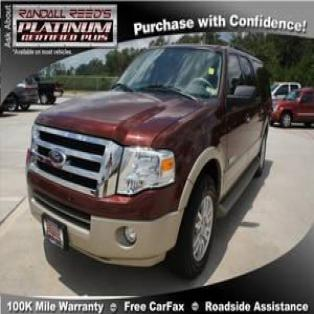Auto: (24, 43, 271, 280)
